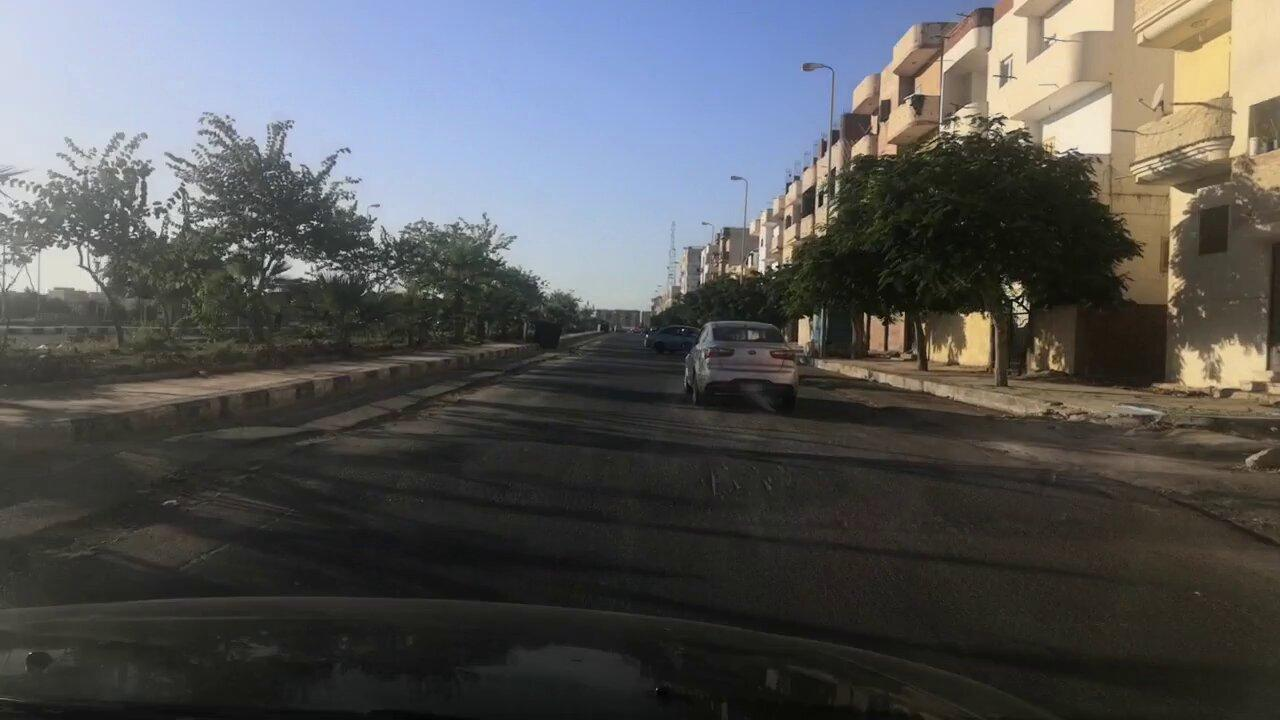Pothole: (43, 367, 505, 513), (42, 507, 182, 582)
